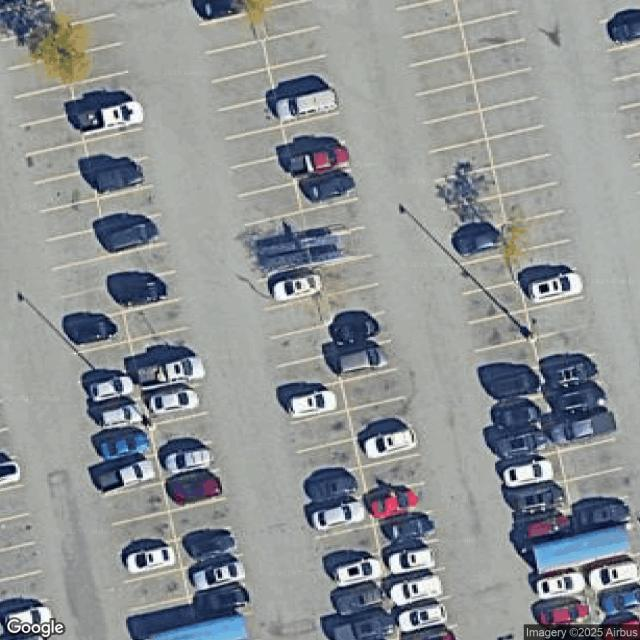car: (565, 496, 633, 538), (541, 408, 616, 445), (92, 212, 160, 252), (484, 424, 550, 464), (78, 154, 145, 193), (541, 380, 609, 417), (501, 479, 566, 517), (357, 418, 417, 459), (538, 354, 601, 392), (78, 101, 145, 135), (377, 513, 436, 550), (324, 608, 392, 640), (303, 467, 355, 508), (164, 469, 223, 505), (381, 569, 440, 605), (91, 427, 150, 462), (487, 399, 545, 433), (291, 146, 350, 179), (325, 341, 382, 375), (180, 528, 238, 561), (451, 222, 503, 257), (193, 582, 248, 615), (330, 581, 383, 615), (526, 271, 582, 303), (145, 356, 204, 386), (298, 170, 353, 202), (309, 498, 362, 531), (532, 598, 592, 627), (92, 398, 146, 430), (383, 544, 435, 577), (328, 310, 378, 343), (329, 554, 380, 586), (190, 560, 242, 591), (84, 371, 136, 402), (367, 488, 417, 520), (4, 606, 52, 638), (124, 545, 174, 575), (110, 457, 158, 488), (146, 388, 198, 416), (588, 561, 638, 590), (276, 95, 336, 119), (397, 604, 446, 633), (536, 571, 585, 600), (161, 449, 212, 475), (598, 587, 639, 619), (114, 278, 162, 304), (606, 8, 640, 44), (272, 274, 318, 300), (288, 389, 331, 415), (71, 317, 112, 343), (526, 515, 571, 538), (193, 0, 243, 20), (0, 461, 20, 487)
lot_boundary: (0, 0, 640, 640)
objects: (529, 524, 634, 576), (136, 614, 248, 639)
stall: (130, 323, 196, 374), (236, 179, 304, 225), (507, 240, 578, 284), (543, 381, 612, 426), (549, 408, 617, 453), (68, 68, 136, 112), (81, 126, 146, 172), (535, 322, 600, 368), (383, 569, 449, 614), (489, 424, 558, 467), (375, 510, 438, 556), (499, 452, 568, 494), (320, 522, 380, 570), (568, 465, 632, 510), (170, 494, 231, 541), (123, 297, 188, 341), (259, 263, 321, 309), (65, 40, 127, 86), (110, 241, 176, 284), (60, 283, 123, 328), (116, 510, 176, 557), (212, 66, 276, 110), (220, 96, 284, 140), (312, 496, 376, 540), (56, 13, 120, 57), (77, 98, 142, 141), (163, 466, 225, 511), (400, 25, 468, 66), (506, 481, 574, 522), (481, 335, 540, 382), (229, 155, 295, 197), (178, 525, 241, 569), (467, 41, 530, 85), (560, 439, 623, 483), (296, 165, 356, 211), (26, 142, 90, 185), (520, 270, 584, 313), (539, 353, 603, 396), (136, 355, 203, 396), (362, 453, 423, 498), (317, 255, 379, 299), (474, 70, 536, 114), (309, 227, 372, 270), (326, 313, 392, 354), (46, 226, 110, 268), (354, 426, 418, 468), (430, 139, 494, 181), (248, 210, 309, 254), (301, 437, 362, 481), (206, 39, 268, 82), (228, 124, 290, 167), (282, 112, 344, 155), (76, 341, 138, 384), (292, 409, 354, 452), (3, 27, 65, 70), (182, 555, 247, 596), (394, 598, 459, 639), (153, 411, 212, 456), (20, 114, 83, 156), (42, 198, 105, 240), (494, 156, 557, 198), (513, 508, 576, 550), (343, 368, 403, 412), (421, 82, 481, 126), (527, 296, 585, 341), (90, 157, 152, 199), (119, 270, 181, 312), (68, 312, 130, 354), (159, 440, 221, 482), (108, 481, 170, 523), (482, 97, 541, 141), (35, 171, 98, 212), (276, 85, 339, 126), (95, 186, 158, 227), (257, 0, 320, 41), (506, 210, 566, 253), (489, 128, 550, 170), (1, 599, 65, 639), (104, 216, 166, 257), (144, 383, 206, 424), (270, 55, 332, 96), (53, 256, 116, 296), (254, 238, 314, 280), (326, 284, 386, 326), (335, 340, 398, 380), (306, 465, 366, 507), (368, 482, 428, 524), (126, 595, 194, 632), (291, 142, 352, 183), (122, 540, 180, 583), (447, 196, 505, 239), (94, 424, 156, 464), (101, 455, 163, 495), (268, 296, 330, 336), (280, 356, 342, 396), (264, 27, 323, 69), (464, 12, 523, 54), (439, 166, 498, 208), (10, 56, 69, 98), (190, 580, 255, 618), (17, 83, 77, 124), (349, 398, 409, 439), (501, 183, 561, 224), (466, 282, 526, 323), (471, 311, 532, 351), (304, 198, 363, 239), (491, 395, 549, 436), (384, 540, 443, 580), (400, 0, 462, 38), (413, 55, 475, 93), (128, 570, 188, 609), (275, 325, 334, 364), (204, 11, 260, 52), (333, 554, 389, 595), (292, 382, 347, 423), (428, 112, 487, 150), (576, 496, 635, 534), (463, 255, 519, 295), (586, 555, 639, 597), (534, 593, 591, 632), (328, 582, 388, 618), (93, 394, 151, 431), (86, 369, 141, 408), (531, 566, 587, 604), (588, 584, 639, 625), (0, 571, 49, 613), (489, 368, 543, 406), (4, 0, 58, 38), (457, 226, 510, 264), (331, 612, 396, 639), (600, 5, 639, 49), (0, 541, 42, 579), (191, 0, 247, 26), (456, 0, 516, 23), (0, 513, 34, 551), (607, 42, 639, 82), (0, 485, 28, 519), (615, 72, 639, 110), (0, 456, 22, 489)
